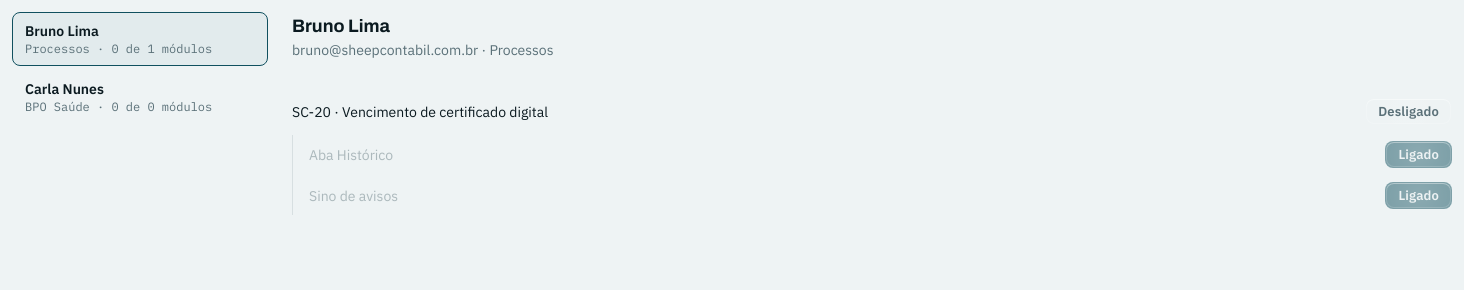
Test case: PainelGestaoUsuarios › reverte e mostra erro quando a acao falha
Click the button with aria-label "SC-20 · Vencimento de certificado digital: desligado". click: point(1409, 112)
box: [1365,98,1452,125]
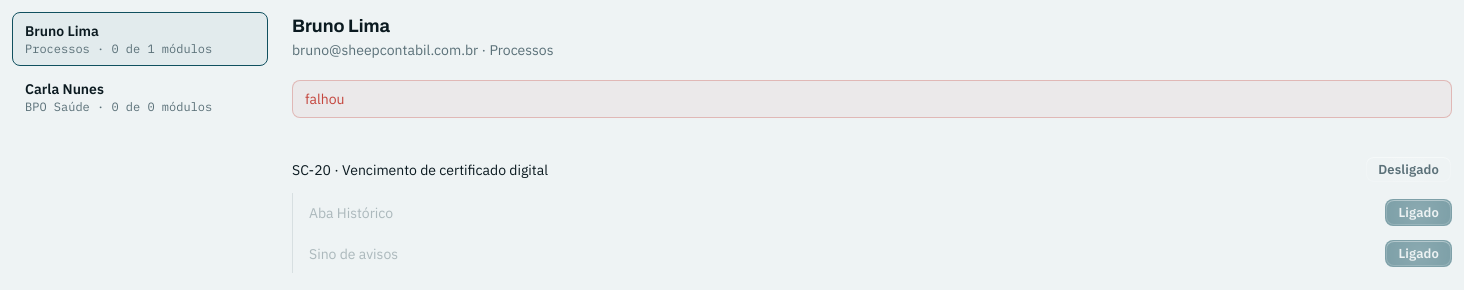
Expected: the button with aria-label "SC-20 · Vencimento de certificado digital: desligado" is shown, [1365,156,1452,183]
Now the text "falhou" is shown, box [292,80,1452,118]
